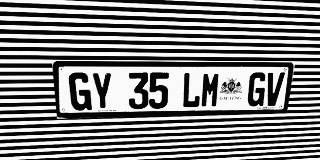3: (129, 72, 149, 109)
5: (149, 72, 169, 109)
G: (68, 72, 92, 111), (246, 72, 268, 106)
L: (181, 72, 202, 108)
M: (200, 72, 221, 108)
V: (264, 72, 285, 106)
Y: (91, 72, 113, 110)
